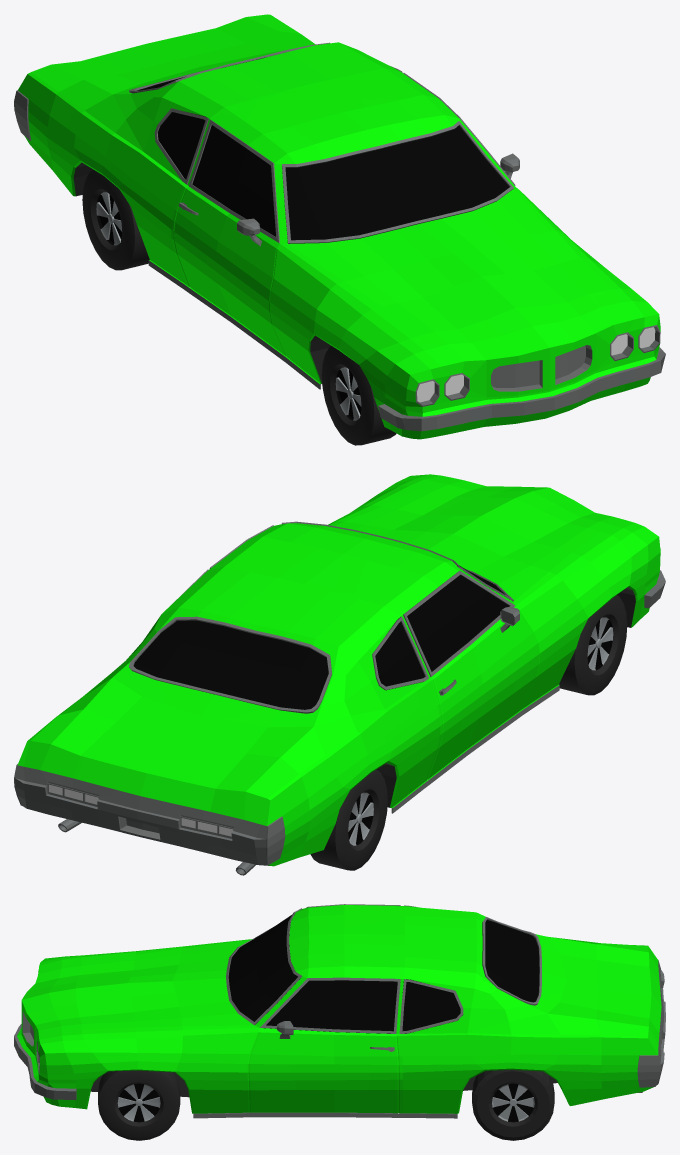
Rendered from car2.fbx.
3 views of the same model, one above another, from view 1: azimuth 30°, elevation 25°; view 2: azimuth 150°, elevation 25°; view 3: azimuth 270°, elevation 25° (orthographic). The views are drawn at different scales.
Visible parts, largest first — view 1: MainCar, Wheels; view 2: MainCar, Wheels; view 3: MainCar, Wheels.
Part boxes in pixels (x1=…): MainCar: x1=14, y1=14, x2=665, y2=439; Wheels: x1=82, y1=169, x2=396, y2=445; MainCar: x1=14, y1=474, x2=665, y2=875; Wheels: x1=310, y1=595, x2=627, y2=870; MainCar: x1=14, y1=904, x2=665, y2=1118; Wheels: x1=98, y1=1070, x2=554, y2=1140.
Bounding box in the file's own units: 128 × 89.54 × 333.
